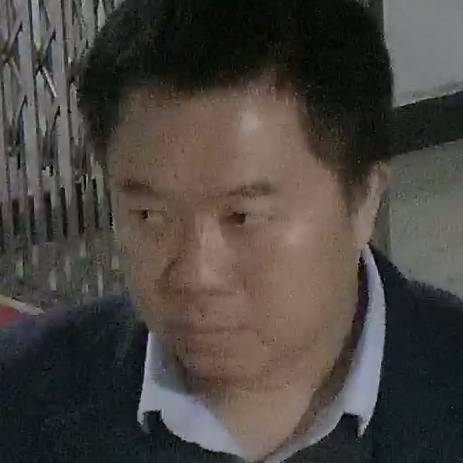cb: (56, 56, 395, 395)
